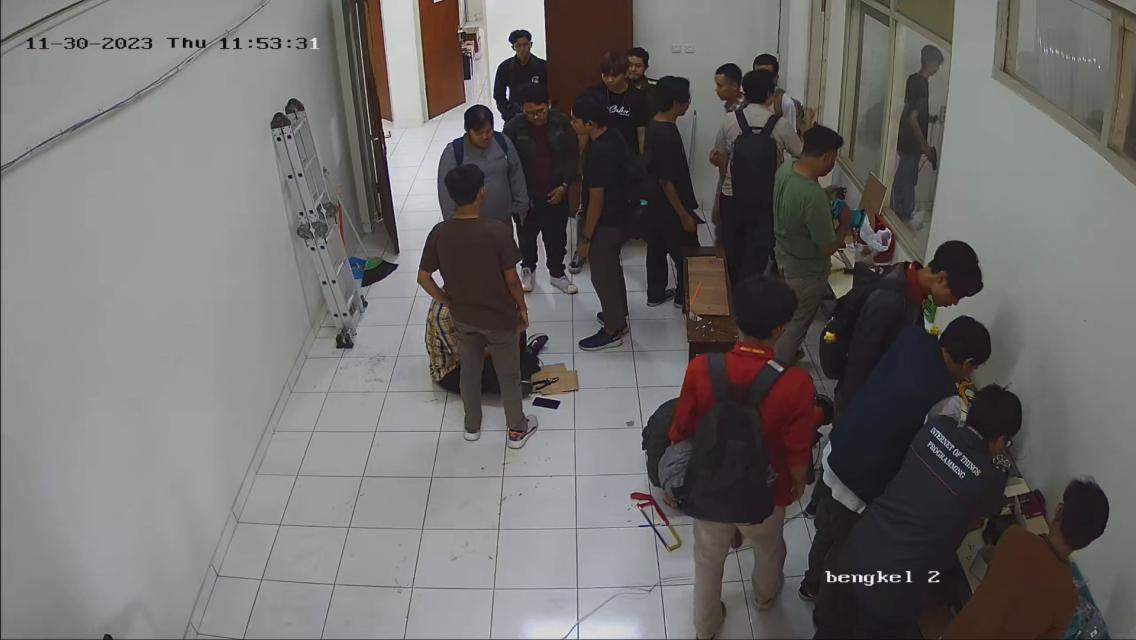Crowd: (398, 17, 860, 434)
